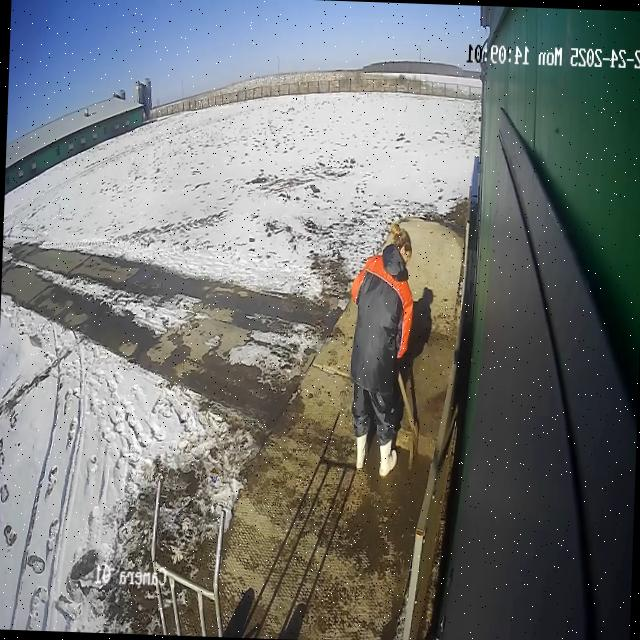Red uniform: (344, 240, 417, 450)
